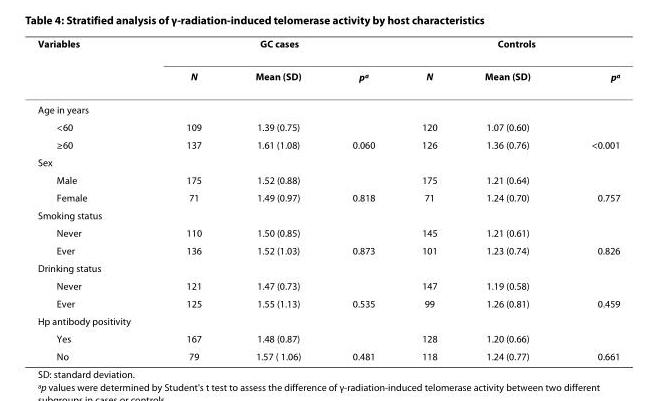table: (36, 36, 619, 361)
table column: (36, 36, 157, 361), (460, 36, 560, 361), (227, 36, 326, 361), (326, 36, 397, 361), (157, 36, 227, 361), (397, 36, 460, 361), (560, 36, 619, 361)
table column header: (36, 36, 619, 92)
table projected row header: (36, 92, 619, 117), (36, 152, 619, 170), (36, 205, 619, 223), (36, 258, 619, 276), (36, 311, 619, 329)
table row: (36, 59, 619, 92), (36, 92, 619, 117), (36, 36, 619, 59), (36, 117, 619, 135), (36, 152, 619, 170), (36, 170, 619, 188), (36, 205, 619, 223), (36, 223, 619, 241), (36, 258, 619, 276), (36, 276, 619, 294), (36, 311, 619, 329), (36, 135, 619, 152), (36, 188, 619, 205), (36, 241, 619, 258), (36, 294, 619, 311), (36, 329, 619, 346), (36, 346, 619, 361)
table spanning cell: (36, 36, 157, 92), (157, 36, 397, 59), (397, 36, 619, 59)
